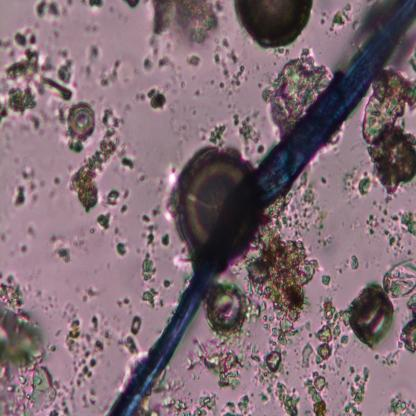Background material: (241, 168, 331, 344), (0, 8, 75, 133), (300, 294, 372, 416), (59, 278, 127, 386), (360, 70, 416, 196), (142, 0, 225, 85), (66, 110, 128, 215), (266, 46, 332, 134), (0, 268, 51, 366), (138, 200, 174, 312), (353, 204, 416, 256), (186, 337, 249, 384), (0, 365, 57, 416), (249, 338, 286, 404), (48, 222, 104, 264), (214, 39, 249, 99), (98, 181, 134, 231), (10, 162, 47, 210), (155, 373, 193, 416), (232, 111, 266, 156), (116, 314, 150, 357), (383, 256, 416, 296), (339, 166, 374, 202), (396, 292, 416, 351), (272, 377, 301, 416), (81, 41, 107, 83), (50, 378, 76, 416), (328, 2, 353, 37), (99, 52, 123, 87), (388, 390, 416, 416), (220, 395, 254, 416), (35, 0, 68, 21), (116, 141, 137, 172), (132, 90, 167, 108), (192, 395, 219, 416), (113, 227, 130, 260), (208, 122, 229, 148), (76, 391, 102, 407), (380, 349, 401, 367), (117, 294, 133, 317), (52, 170, 64, 198), (44, 297, 57, 318), (80, 21, 100, 34), (155, 176, 167, 195), (84, 0, 103, 12), (44, 340, 58, 355), (348, 252, 359, 271), (27, 220, 38, 238), (198, 124, 209, 142), (123, 0, 140, 10), (339, 258, 349, 274), (0, 229, 10, 243), (320, 10, 328, 27), (20, 242, 28, 257), (190, 107, 197, 117), (139, 175, 146, 184), (54, 330, 63, 336), (180, 125, 187, 132), (255, 64, 262, 71), (209, 78, 215, 86), (195, 90, 201, 98), (374, 353, 380, 360), (258, 82, 264, 88)
Cotton: (104, 0, 416, 416)
Diatom: (169, 141, 257, 269), (234, 0, 316, 49), (349, 282, 397, 350), (207, 280, 248, 337), (65, 100, 97, 141)
